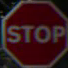Stop: (5, 8, 63, 58)
